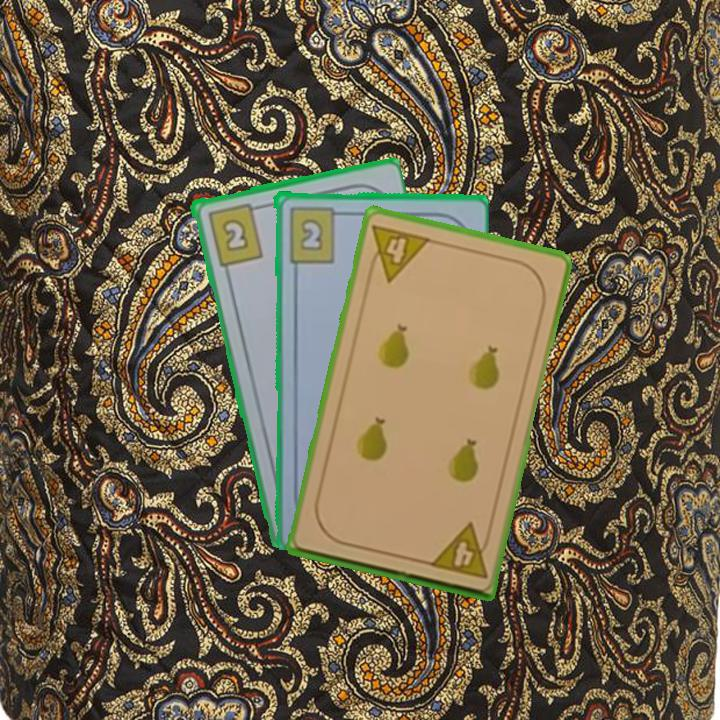2b: (203, 199, 266, 269), (285, 203, 346, 264)
4p: (363, 220, 433, 285), (425, 520, 494, 582)
